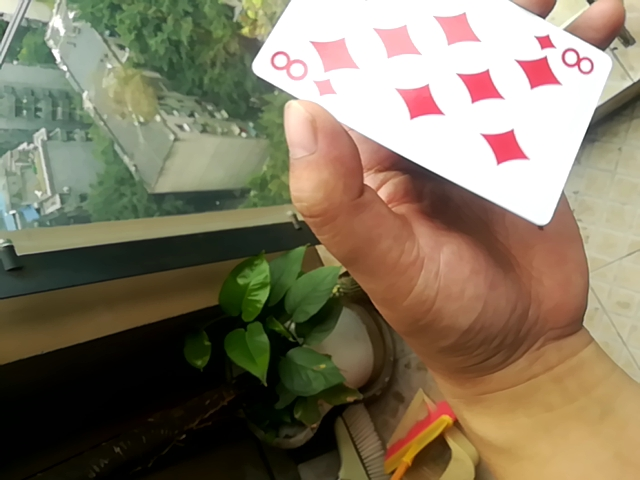fk 8: (244, 0, 626, 236)
